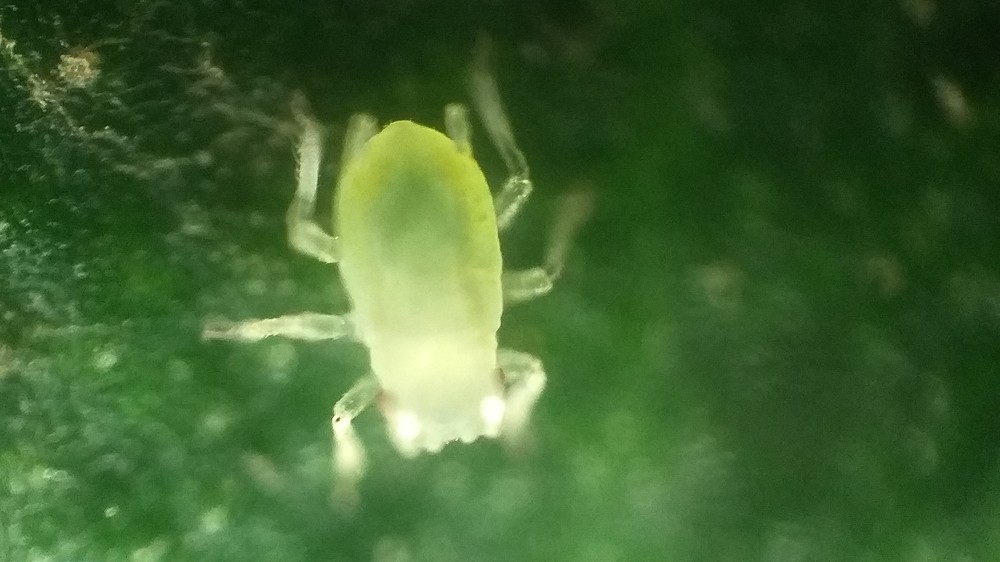Pulgon: (232, 82, 631, 505)
